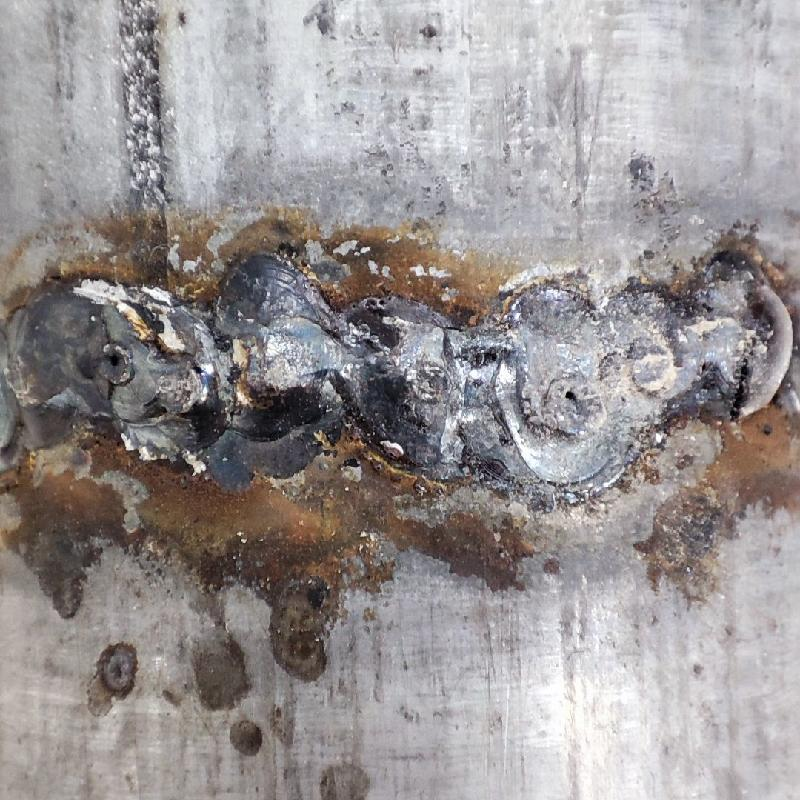Not_fully_soldered: (466, 267, 733, 489)
Surface_pores: (543, 371, 599, 431)
